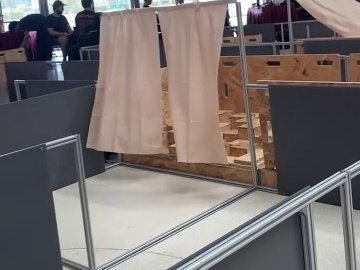curtain: (86, 5, 227, 151)
